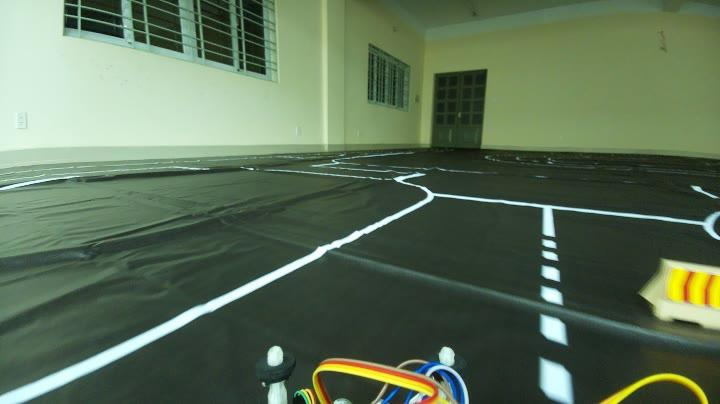roadblock: (634, 251, 720, 332)
